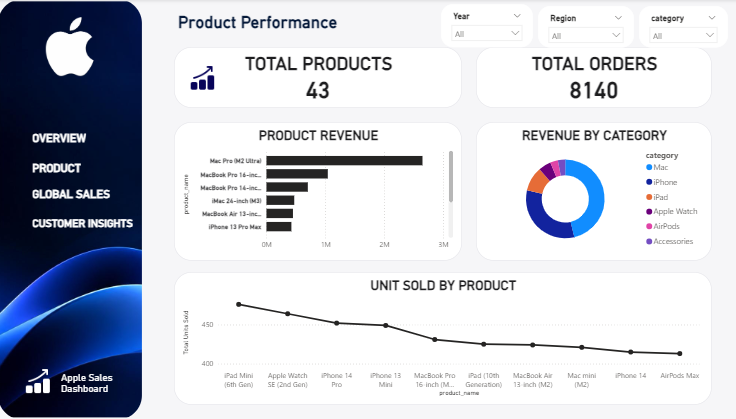

This screenshot's page, from the dashboard's own definition file:
{"tool":"powerbi","page":{"name":"Product Performance","canvas":[1280,720],"ordinal":1},"visuals":[{"type":"image","box":[0,0,246.1,719.5],"z":0},{"type":"card","title":"TOTAL PRODUCTS","fields":{"Values":["apple_global_sales_dataset (1).Total Products"]},"box":[300.8,82,492.2,104.2],"z":1000},{"type":"card","title":"TOTAL ORDERS","fields":{"Values":["apple_global_sales_dataset (1).Total Orders"]},"box":[816.9,82,403.3,104.2],"z":2000},{"type":"clusteredBarChart","title":"PRODUCT REVENUE","fields":{"Category":["apple_global_sales_dataset (1).product_name"],"Y":["apple_global_sales_dataset (1).Total Revenue"]},"box":[300.7,210,492.2,236.9],"z":3000},{"type":"donutChart","title":"REVENUE BY CATEGORY","fields":{"Category":["apple_global_sales_dataset (1).category"],"Y":["apple_global_sales_dataset (1).Total Revenue"]},"box":[816.4,210,403.1,236.9],"z":4000},{"type":"lineChart","title":"UNIT SOLD BY PRODUCT","fields":{"Category":["apple_global_sales_dataset (1).product_name"],"Y":["apple_global_sales_dataset (1).Total Units Sold"]},"box":[300.7,467,918.8,226.8],"z":5000},{"type":"image","box":[25.6,30.8,194.8,100.8],"z":6000},{"type":"shape","title":"Apple Sales Dashboard","box":[107.7,637.8,151.7,53.9],"z":6001},{"type":"image","box":[43.9,618,46.8,69.4],"z":6002},{"type":"actionButton","box":[53.9,209.8,223.9,53.9],"z":6003},{"type":"actionButton","box":[53.9,360,219.7,45.4],"z":6004},{"type":"actionButton","box":[53.9,306.1,223.9,53.9],"z":6005},{"type":"actionButton","box":[53.9,262.2,223.9,53.9],"z":6006},{"type":"image","box":[326.4,100.8,46.1,68.4],"z":6007},{"type":"textbox","box":[303.3,17,358.6,53.9],"z":6008},{"type":"slicer","title":"Year","fields":{"Values":["apple_global_sales_dataset (1).sale_date.Variation.Date Hierarchy.Year"]},"box":[756.9,8.5,157.3,73.7],"z":6009},{"type":"slicer","fields":{"Values":["apple_global_sales_dataset (1).category"]},"box":[1095.6,12.8,151.7,70.9],"z":6010},{"type":"slicer","fields":{"Values":["apple_global_sales_dataset (1).region"]},"box":[922.7,12.8,164.4,70.9],"z":6011}]}

Visuals, with their boxes in screenshot pixels (x1, y1, x2, y2), scaled from the page's 1280x720 canvas onto the 736x419 screenshot:
image: (x1=0, y1=0, x2=142, y2=418)
"TOTAL PRODUCTS" card: (x1=173, y1=48, x2=456, y2=108)
"TOTAL ORDERS" card: (x1=470, y1=48, x2=702, y2=108)
"PRODUCT REVENUE" clusteredBarChart: (x1=173, y1=122, x2=456, y2=260)
"REVENUE BY CATEGORY" donutChart: (x1=469, y1=122, x2=701, y2=260)
"UNIT SOLD BY PRODUCT" lineChart: (x1=173, y1=272, x2=701, y2=404)
image: (x1=15, y1=18, x2=127, y2=77)
"Apple Sales Dashboard" shape: (x1=62, y1=371, x2=149, y2=403)
image: (x1=25, y1=360, x2=52, y2=400)
actionButton: (x1=31, y1=122, x2=160, y2=153)
actionButton: (x1=31, y1=210, x2=157, y2=236)
actionButton: (x1=31, y1=178, x2=160, y2=210)
actionButton: (x1=31, y1=153, x2=160, y2=184)
image: (x1=188, y1=59, x2=214, y2=98)
textbox: (x1=174, y1=10, x2=381, y2=41)
"Year" slicer: (x1=435, y1=5, x2=526, y2=48)
slicer - apple_global_sales_dataset (1).category: (x1=630, y1=7, x2=717, y2=49)
slicer - apple_global_sales_dataset (1).region: (x1=531, y1=7, x2=625, y2=49)
